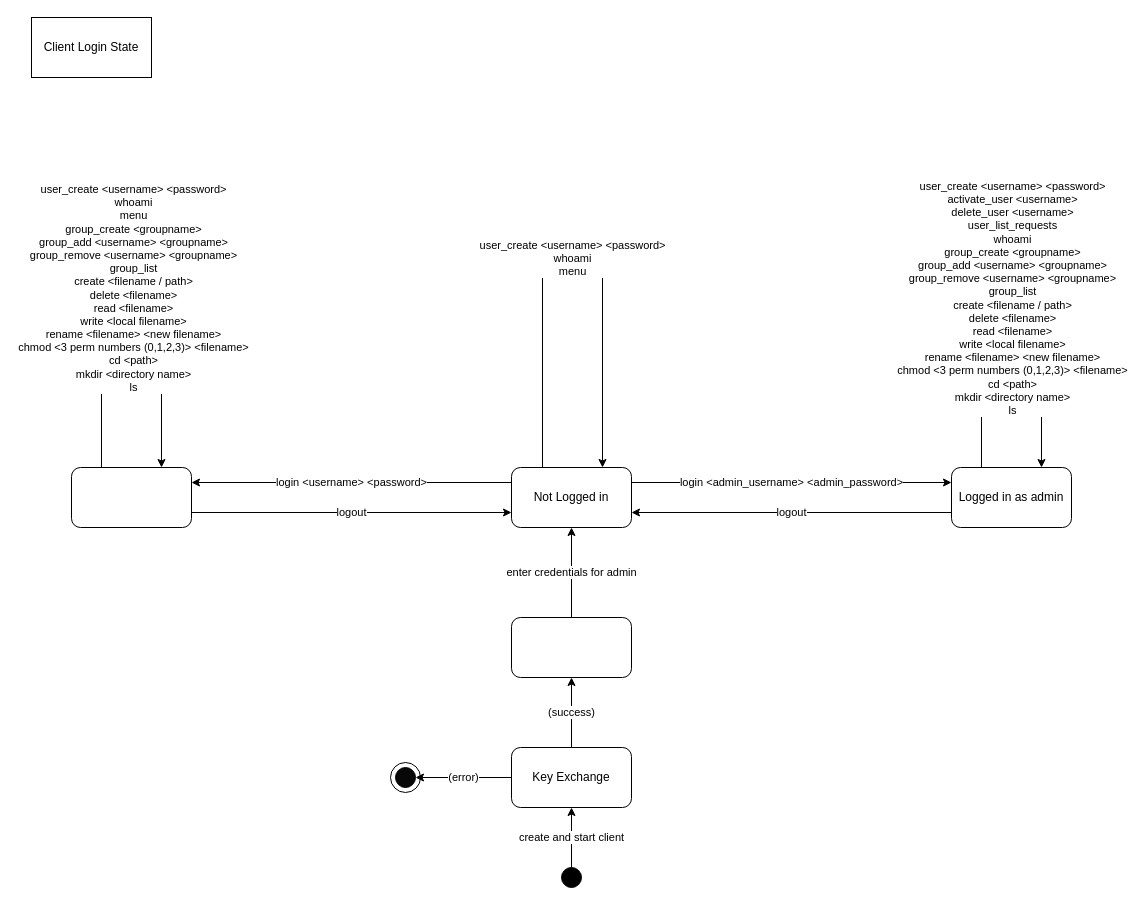
The diagram is 1144 pixels wide and 905 high, and some of its shapes have lost their labels. The shapes that lost their labels are listed below. From the top down, each one's box as (x1, y1, x2, y2) in pixels, then its label:
(70, 466, 192, 528): Logged in
(510, 616, 632, 678): Admin Specification
